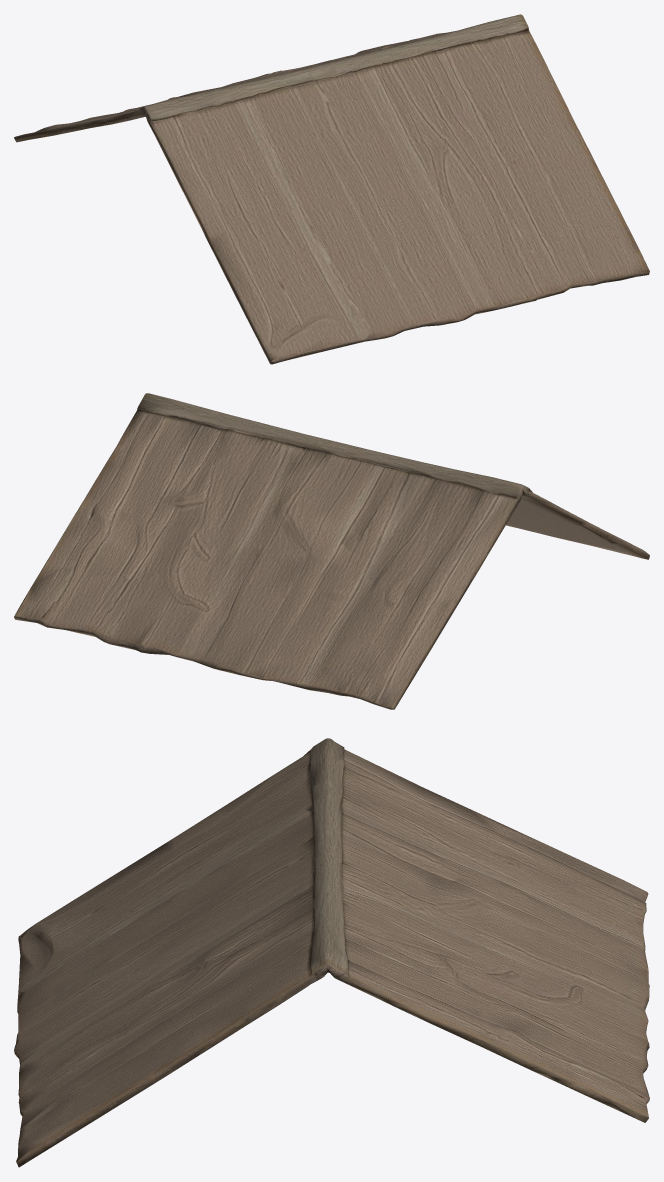
The model's file is Saloon_Roof.glb.
3 views of the same model, one above another, from view 1: azimuth 30°, elevation 25°; view 2: azimuth 150°, elevation 25°; view 3: azimuth 270°, elevation 25° (orthographic). The views are drawn at different scales.
Parts seen in each view (by area): view 1: tripo_node_8a27ab66-5d4e-4f20-9e60-ee1772ac32e8; view 2: tripo_node_8a27ab66-5d4e-4f20-9e60-ee1772ac32e8; view 3: tripo_node_8a27ab66-5d4e-4f20-9e60-ee1772ac32e8.
Boxes of the visible parts, <box> form: tripo_node_8a27ab66-5d4e-4f20-9e60-ee1772ac32e8: <box>14,14,649,364</box>; tripo_node_8a27ab66-5d4e-4f20-9e60-ee1772ac32e8: <box>14,393,649,709</box>; tripo_node_8a27ab66-5d4e-4f20-9e60-ee1772ac32e8: <box>14,738,649,1167</box>.
Size of the model in its own units: 0.8209 by 0.3478 by 0.9789.
Materials: 1 (1 with a texture image).
